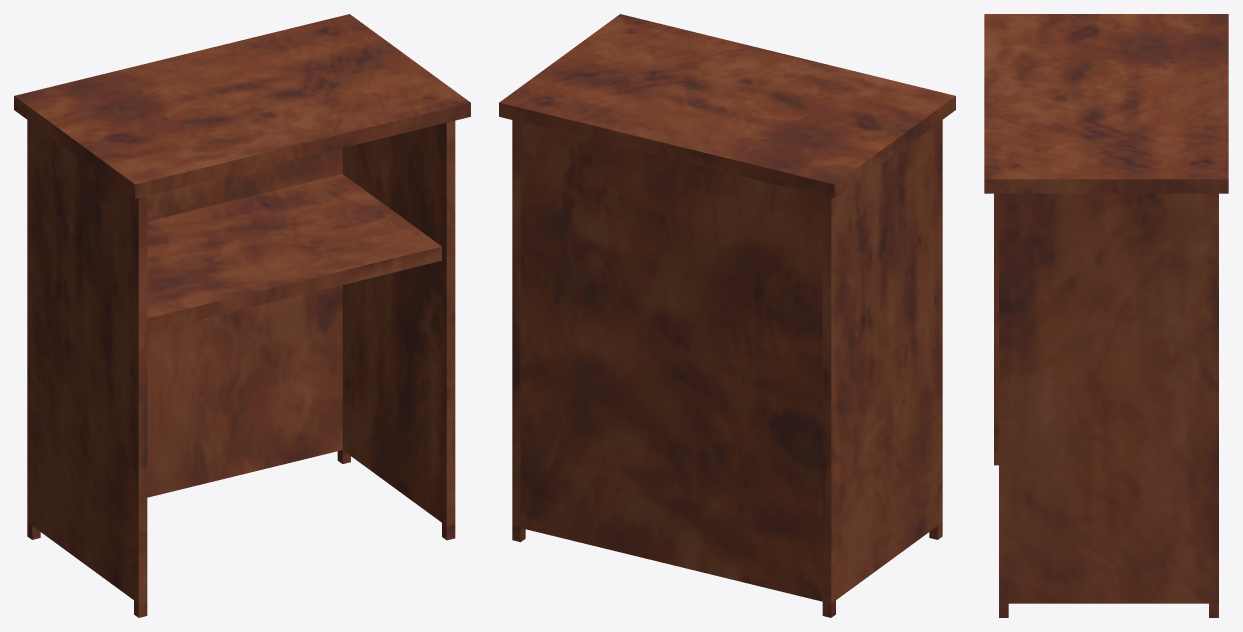
File: class_room_desk.glb
The picture shows the model from 3 angles, left to right: view 1: azimuth 30°, elevation 25°; view 2: azimuth 150°, elevation 25°; view 3: azimuth 270°, elevation 25°; orthographic projection.
Parts seen in each view (by area): view 1: つくえ 教卓001.001; view 2: つくえ 教卓001.001; view 3: つくえ 教卓001.001.
Boxes of the visible parts, box(x1,y1,x2,y2) form: つくえ 教卓001.001: box(14, 14, 470, 617); つくえ 教卓001.001: box(499, 14, 955, 617); つくえ 教卓001.001: box(984, 14, 1228, 617).
Size of the model in its own units: 0.8 by 1 by 0.5.
1 material, 1 textured.
